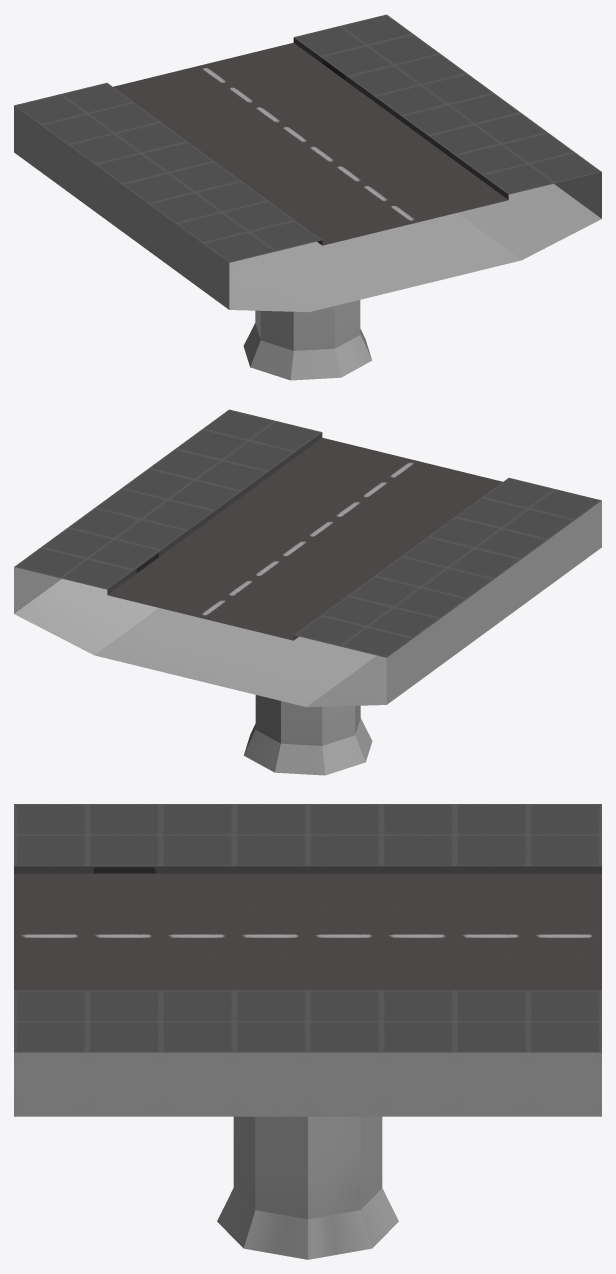
File: brug.fbx
3 renders of one model, top to bottom at view 1: azimuth 30°, elevation 25°; view 2: azimuth 150°, elevation 25°; view 3: azimuth 270°, elevation 25°, orthographic. The views are drawn at different scales.
Visible parts, largest first — view 1: pCylinder8; view 2: pCylinder8; view 3: pCylinder8.
Part boxes in pixels (x1=…): pCylinder8: x1=14, y1=14, x2=601, y2=380; pCylinder8: x1=14, y1=409, x2=601, y2=775; pCylinder8: x1=14, y1=804, x2=601, y2=1259.
Size of the model in its own units: 22.88 by 12.58 by 22.88.
